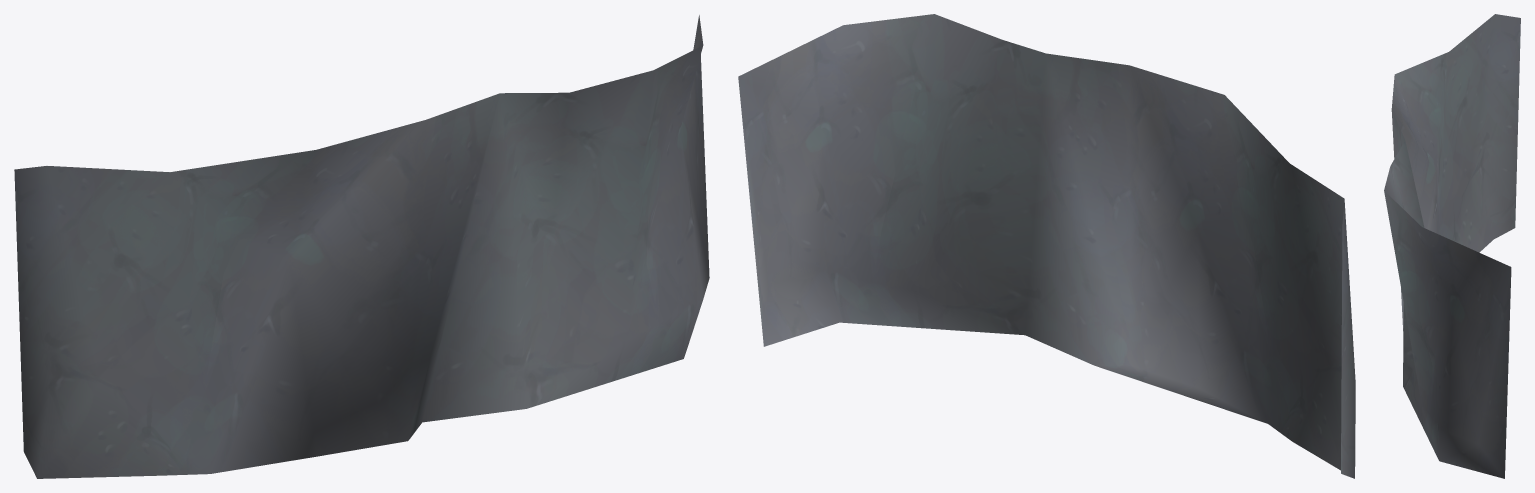
Rendered from Boulder_L_Lean.fbx.
The picture shows the model from 3 angles, left to right: view 1: azimuth 30°, elevation 25°; view 2: azimuth 150°, elevation 25°; view 3: azimuth 270°, elevation 25°; orthographic projection. The views are drawn at different scales.
Parts seen in each view (by area): view 1: Boulder_L_Lean; view 2: Boulder_L_Lean; view 3: Boulder_L_Lean.
Boxes of the visible parts, left/top/right/bottom form: Boulder_L_Lean: left=14, top=15, right=709, bottom=478; Boulder_L_Lean: left=738, top=14, right=1355, bottom=478; Boulder_L_Lean: left=1384, top=14, right=1520, bottom=478.
Size of the model in its own units: 1251 by 595 by 295.
